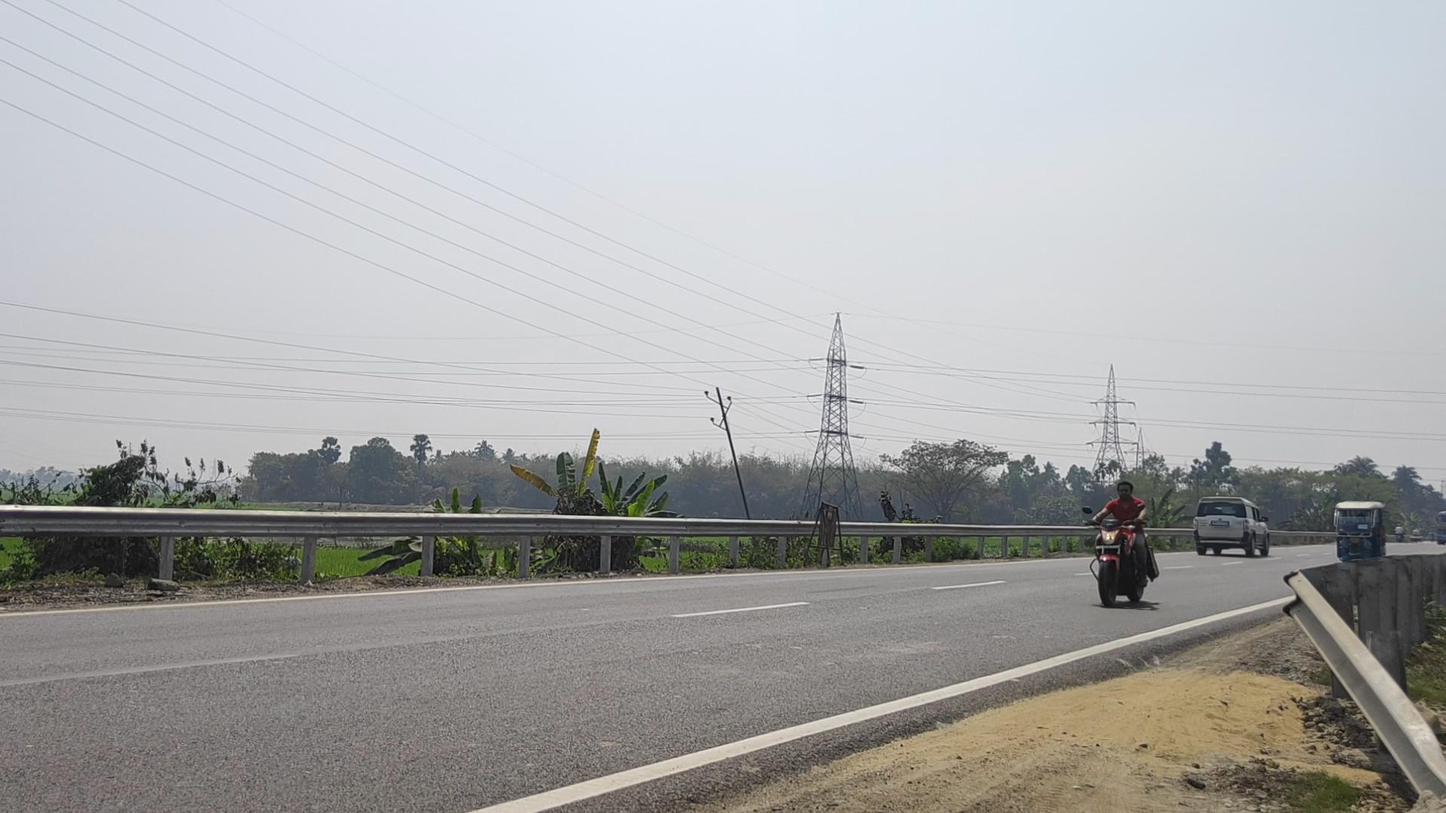Auto: (1333, 501, 1386, 564)
bike: (1082, 482, 1160, 607)
car: (1193, 496, 1270, 559)
